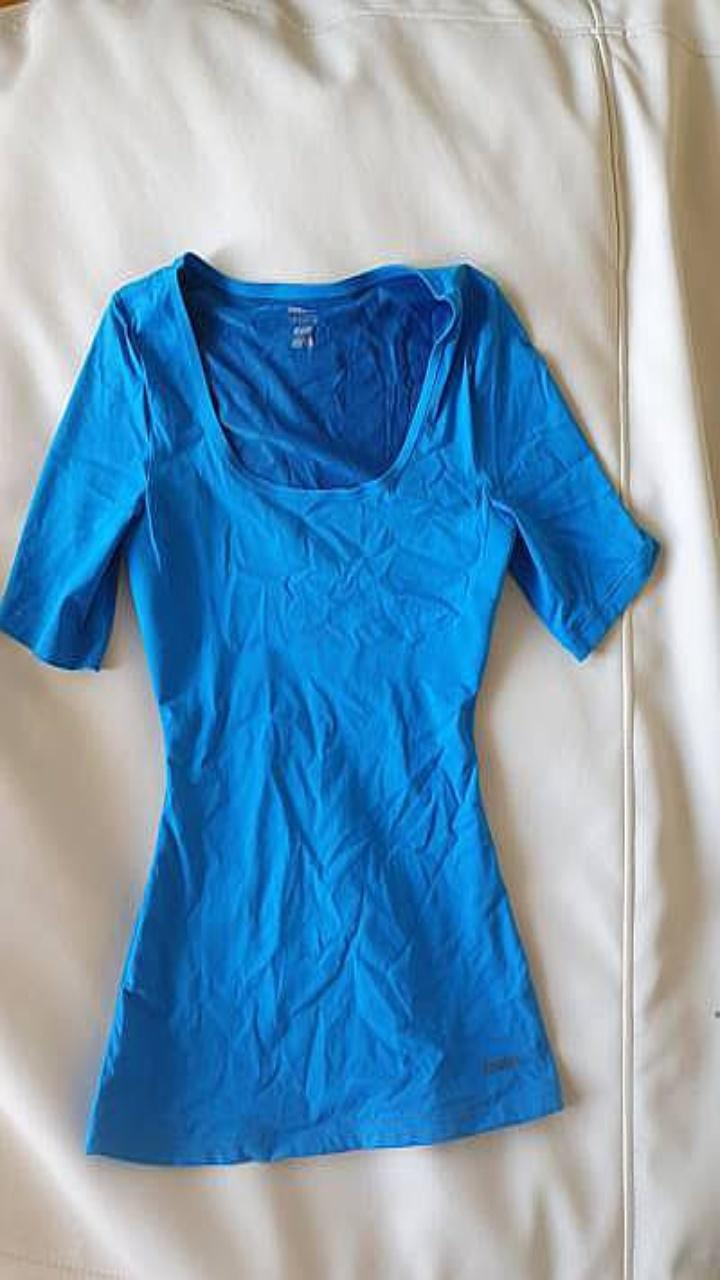T-Shirt: (0, 251, 659, 1163)
